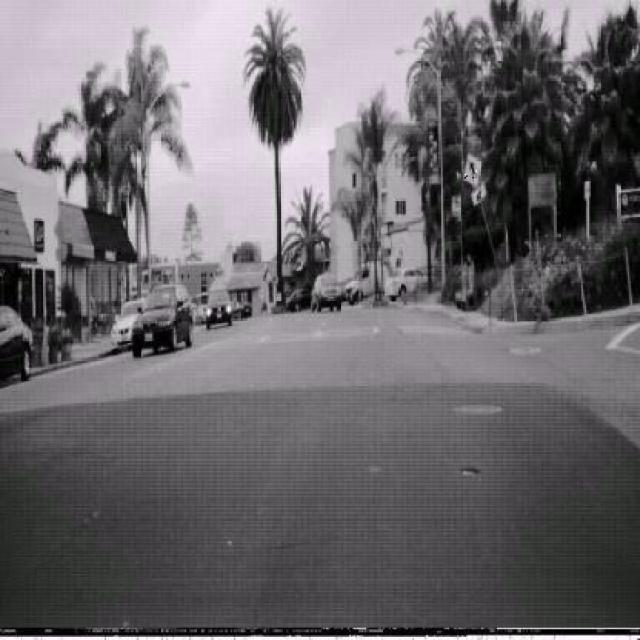pedestrianCrossing: (463, 152, 482, 188)
